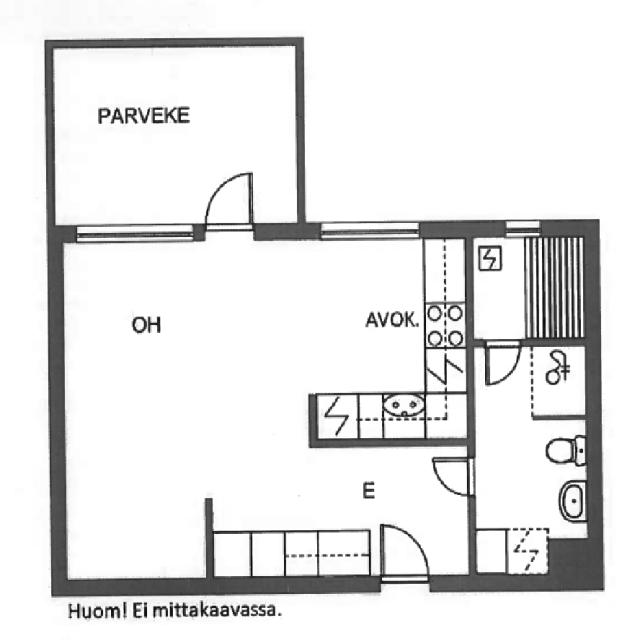door: (199, 164, 262, 236), (375, 518, 434, 587), (480, 334, 525, 388), (429, 454, 475, 496)
window: (45, 46, 303, 224), (66, 215, 201, 248), (312, 215, 429, 246), (499, 216, 548, 241)
zone: (59, 234, 476, 586), (45, 44, 304, 228), (468, 412, 597, 585), (470, 232, 591, 346), (213, 530, 368, 586)
